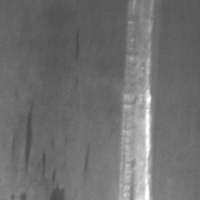inclusion: (130, 152, 158, 200), (162, 102, 178, 177), (118, 29, 131, 65), (105, 139, 117, 178)
scratches: (45, 1, 80, 199)
